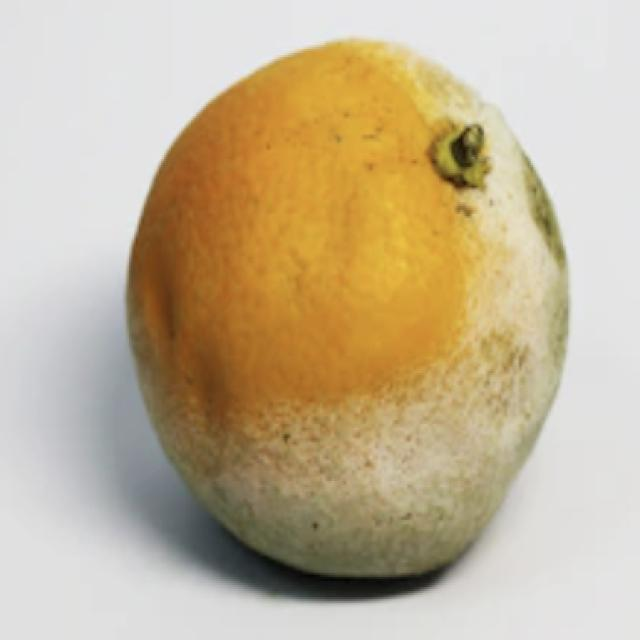sedikit-busuk: (127, 39, 567, 576)
